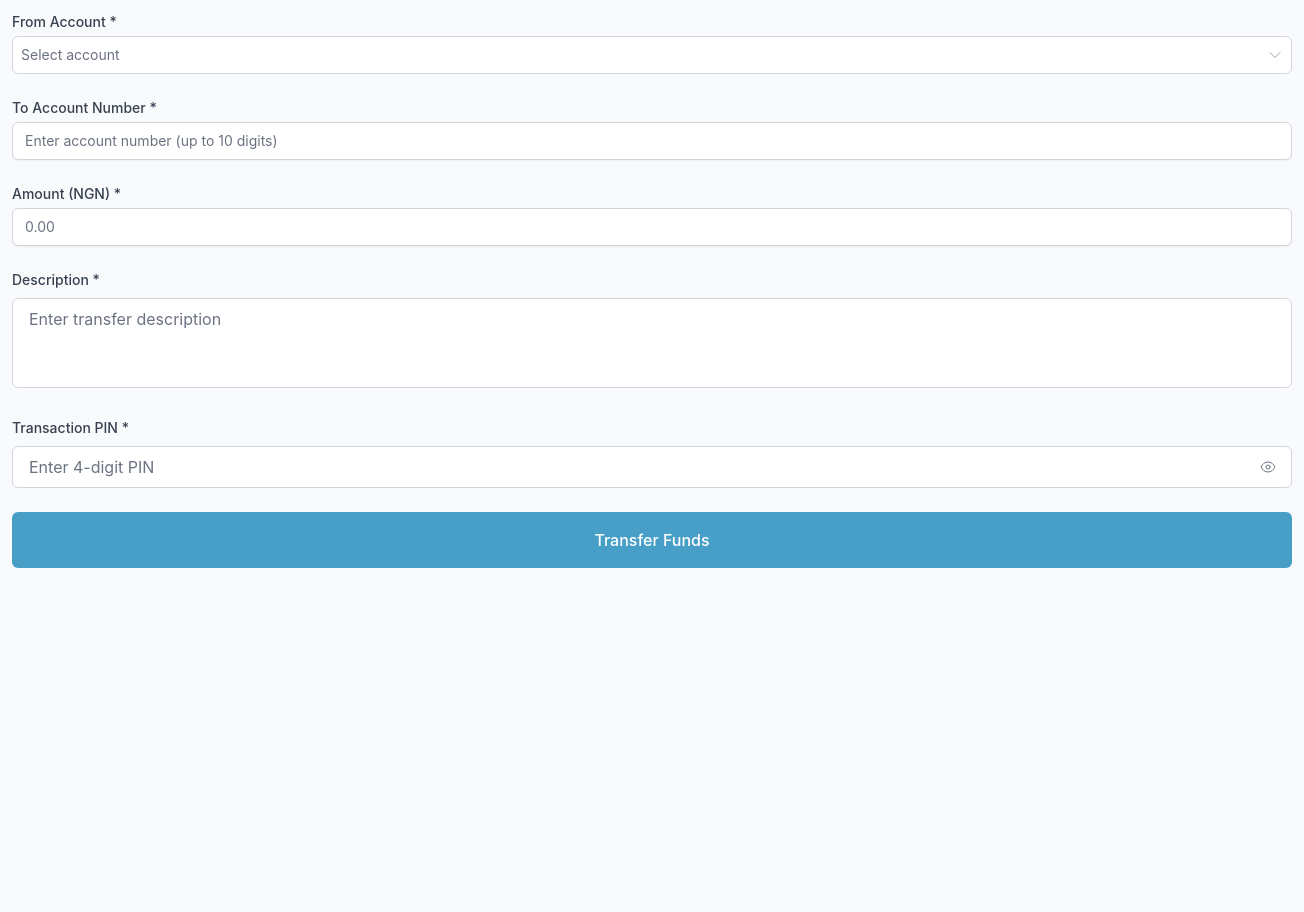
Scenario: TransferForm › displays available balance when source account is selected
The image size is (1304, 912).
What coordinates should you click on to do the following:
click the button "Select account"
I would click on:
 (70, 54)
Its box is [12,36,1292,74].
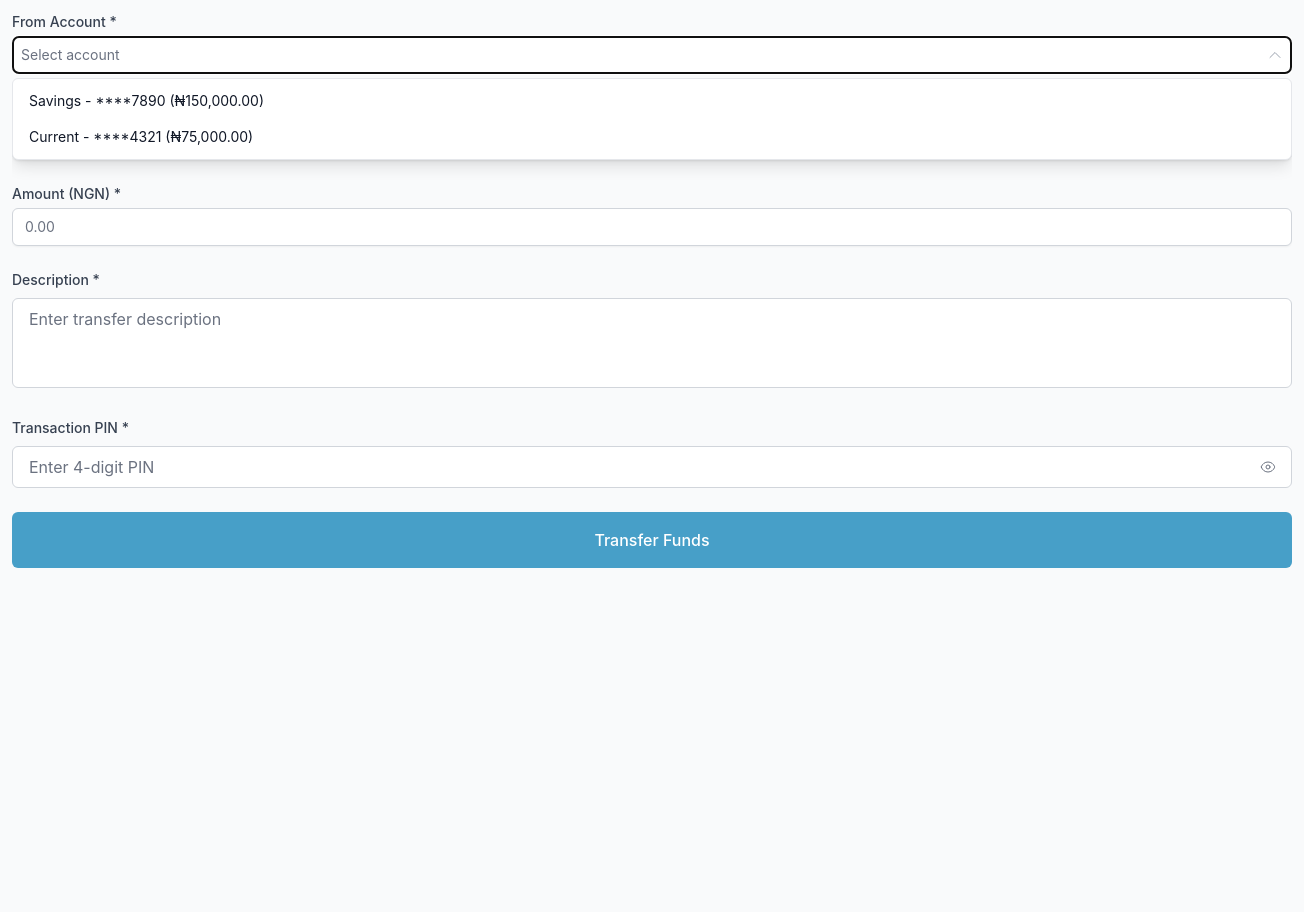
What coordinates should you click on to do the following:
click the button "Savings - ****7890 (₦150,000.00)"
I would click on:
 (147, 100)
Its box is [13,83,1291,119].
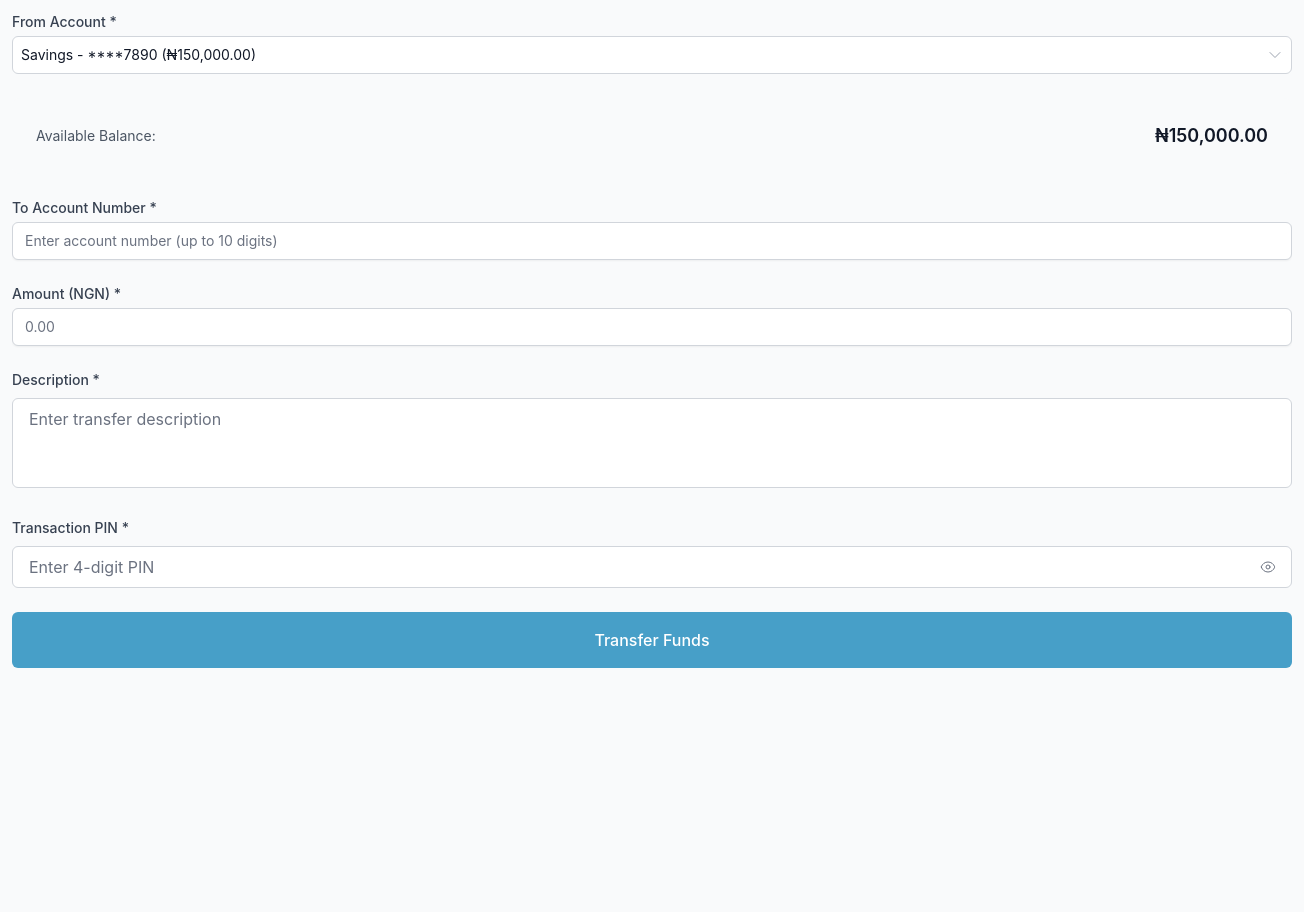
Check: the text "Savings - ****7890 (₦150,000.00)" is shown 2 times, box [21,45,256,65]; [1155,122,1268,150]
Check: the text "Available Balance:" is shown, box [36,126,156,146]
